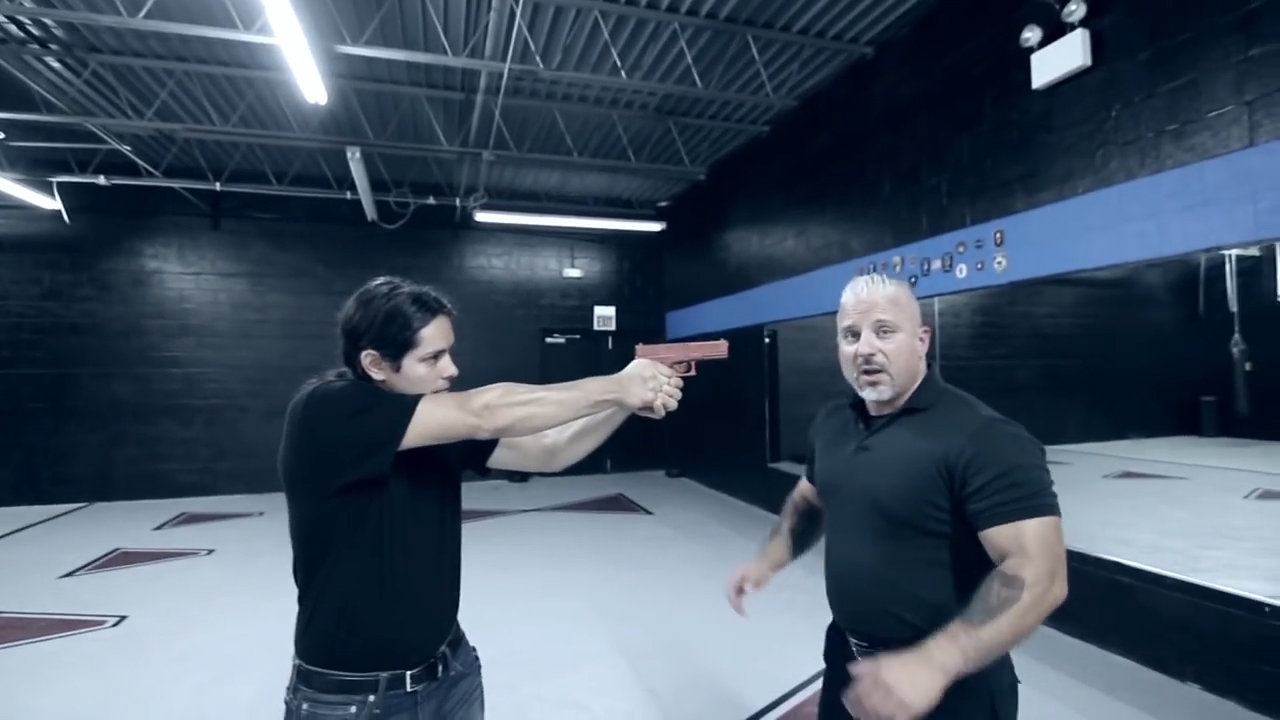pistol: (633, 336, 731, 380)
